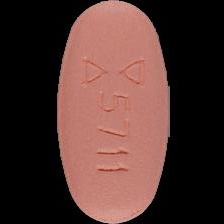35356-897: (0, 0, 224, 224)
